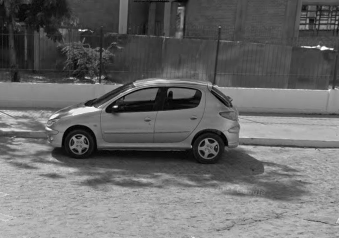car: (42, 74, 246, 166)
